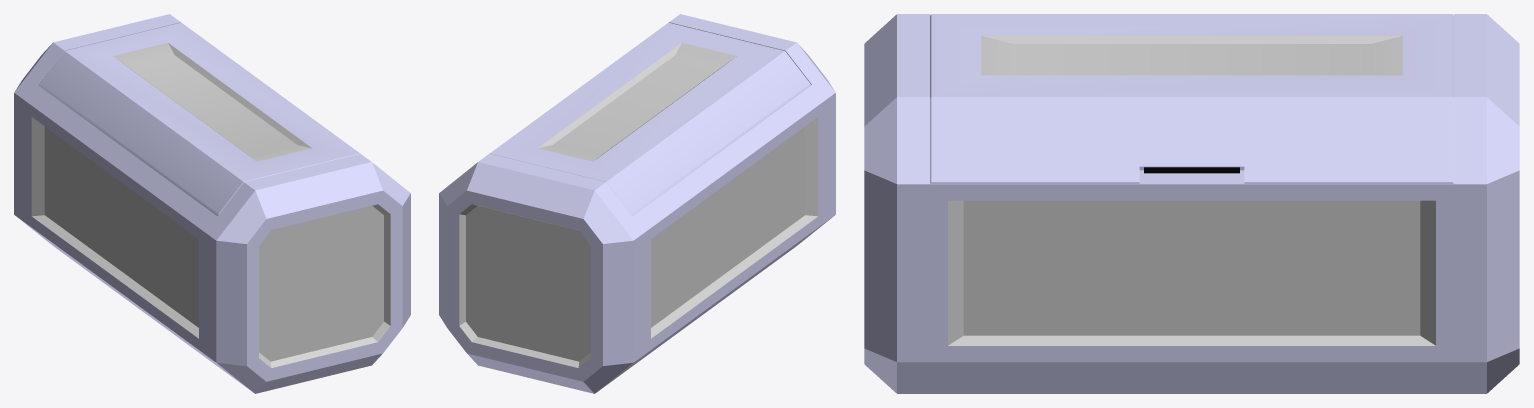
Rendered from sciFi_Container.fbx.
The picture shows the model from 3 angles, left to right: view 1: azimuth 30°, elevation 25°; view 2: azimuth 150°, elevation 25°; view 3: azimuth 270°, elevation 25°; orthographic projection. The views are drawn at different scales.
Visible parts, largest first — view 1: Cube.003, Cube.002; view 2: Cube.003, Cube.002; view 3: Cube.003, Cube.002.
Boxes of the visible parts, bbox=[...] form: Cube.003: bbox=[14, 14, 410, 393]; Cube.002: bbox=[38, 22, 360, 215]; Cube.003: bbox=[439, 14, 835, 393]; Cube.002: bbox=[489, 22, 811, 215]; Cube.003: bbox=[864, 14, 1519, 393]; Cube.002: bbox=[930, 14, 1453, 183].
Bounding box in the file's own units: 100 × 100 × 200.
